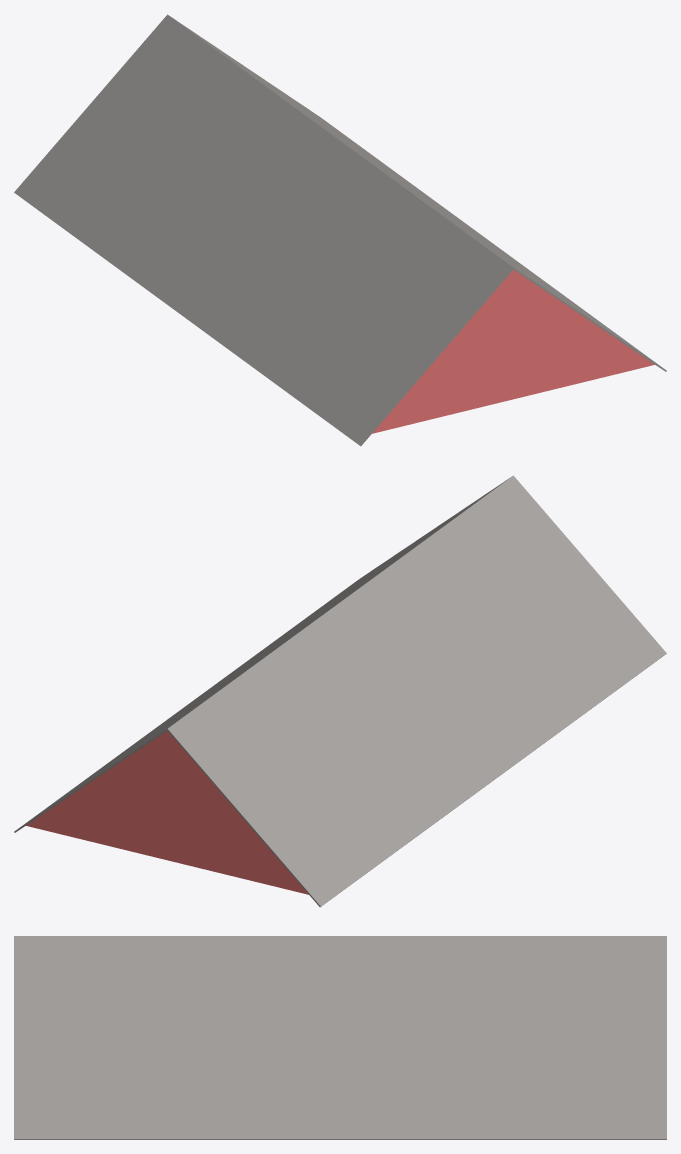
Rendered from BigRoof.fbx.
The picture shows the model from 3 angles, top to bottom: view 1: azimuth 30°, elevation 25°; view 2: azimuth 150°, elevation 25°; view 3: azimuth 270°, elevation 25°; orthographic projection. The views are drawn at different scales.
Visible parts, largest first — view 1: BigRoof; view 2: BigRoof; view 3: BigRoof.
Part boxes in pixels (left/top/right/bottom): BigRoof: left=14, top=14, right=666, bottom=446; BigRoof: left=14, top=475, right=666, bottom=907; BigRoof: left=14, top=936, right=666, bottom=1139.
Size of the model in its own units: 1680 by 741 by 3280.
